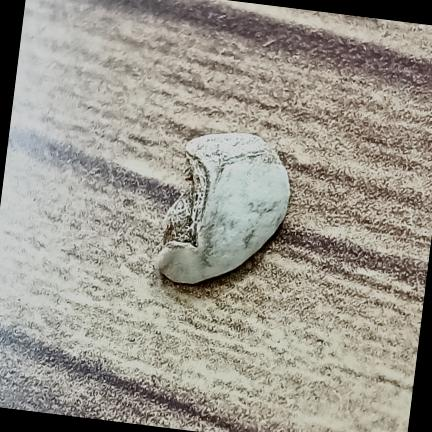cut: (156, 133, 290, 283)
